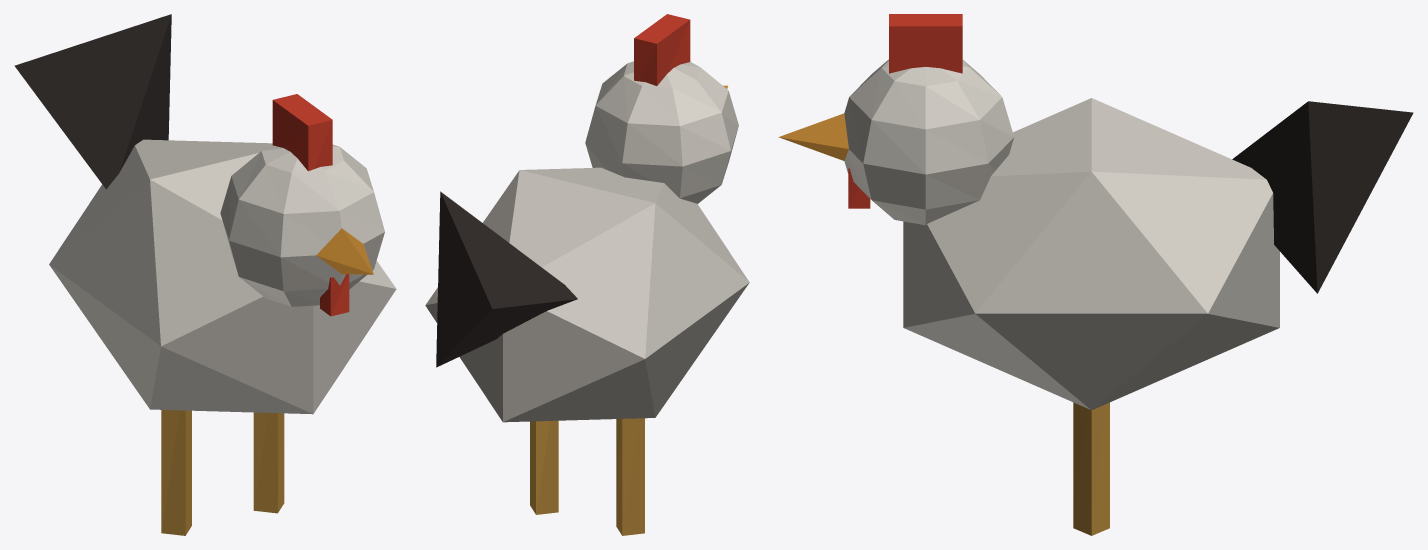
Rendered from bete-poule.glb.
The picture shows the model from 3 angles, left to right: view 1: azimuth 30°, elevation 25°; view 2: azimuth 150°, elevation 25°; view 3: azimuth 270°, elevation 25°; orthographic projection. The views are drawn at different scales.
Size of the model in its own units: 0.2376 by 0.45 by 0.5348.
